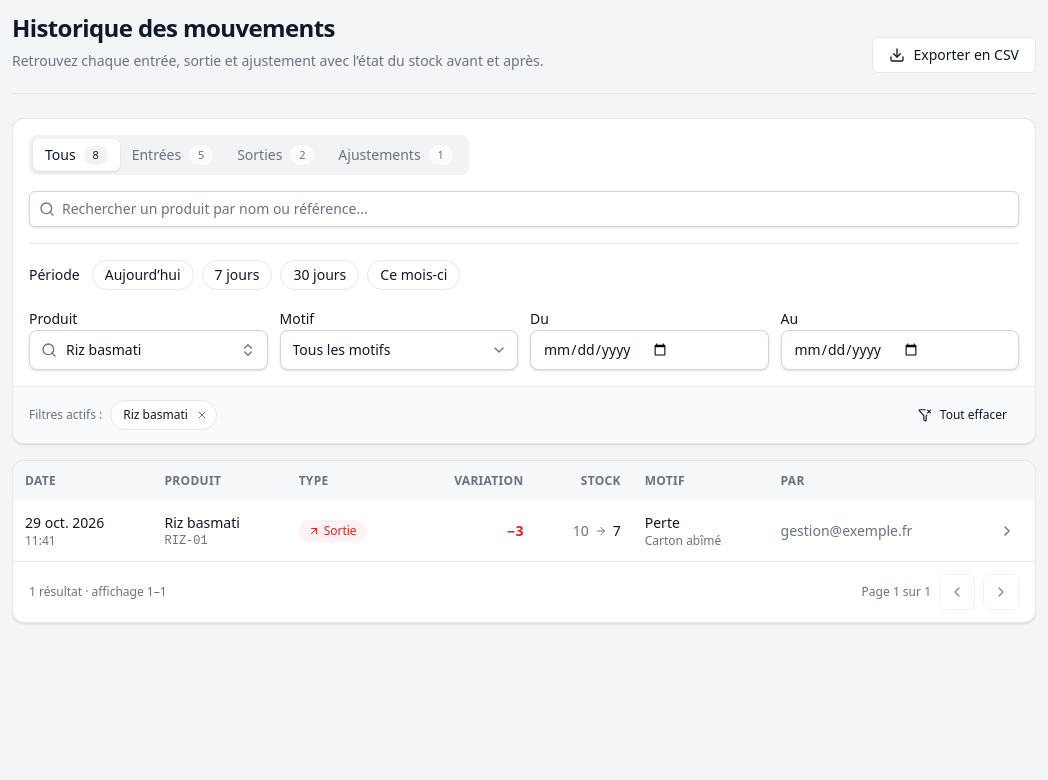
Test case: HistoryPage › applique le produit passé dans l’adresse et un raccourci de période
expect the button named "Retirer le filtre Riz basmati" is shown: met, box [192,405,212,425]
Click the button "7 jours" at (237, 275), box [202,260,272,290]
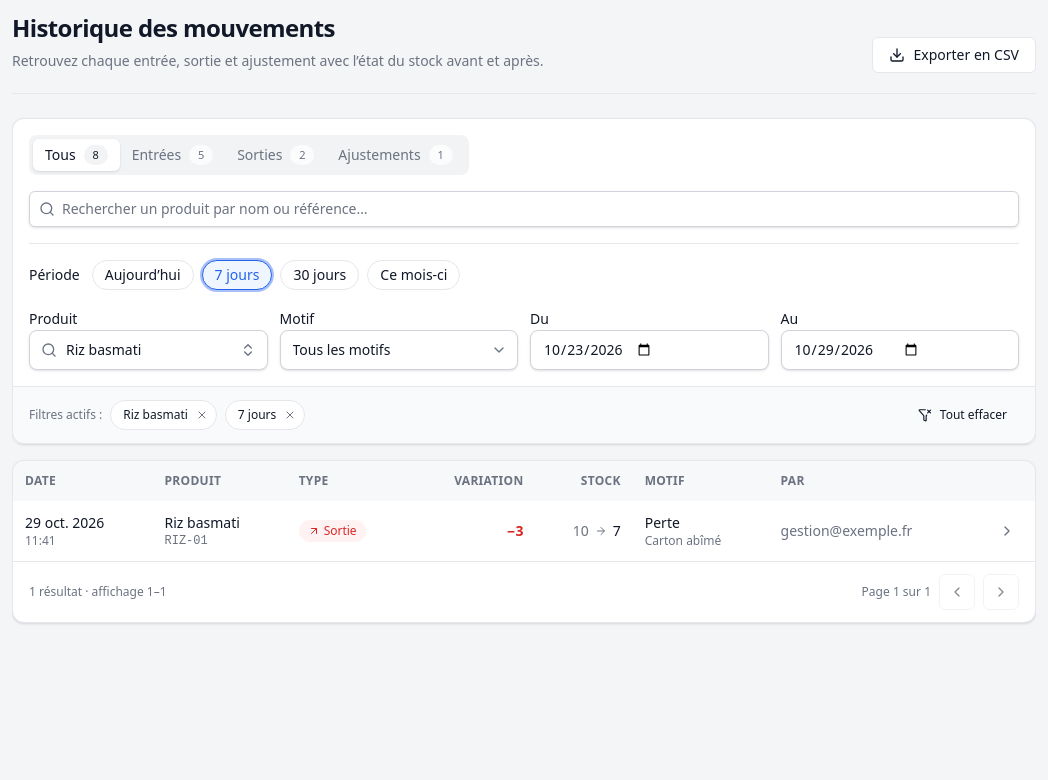
expect the button named "Retirer le filtre 7 jours" is shown: met, box [280,405,300,425]
